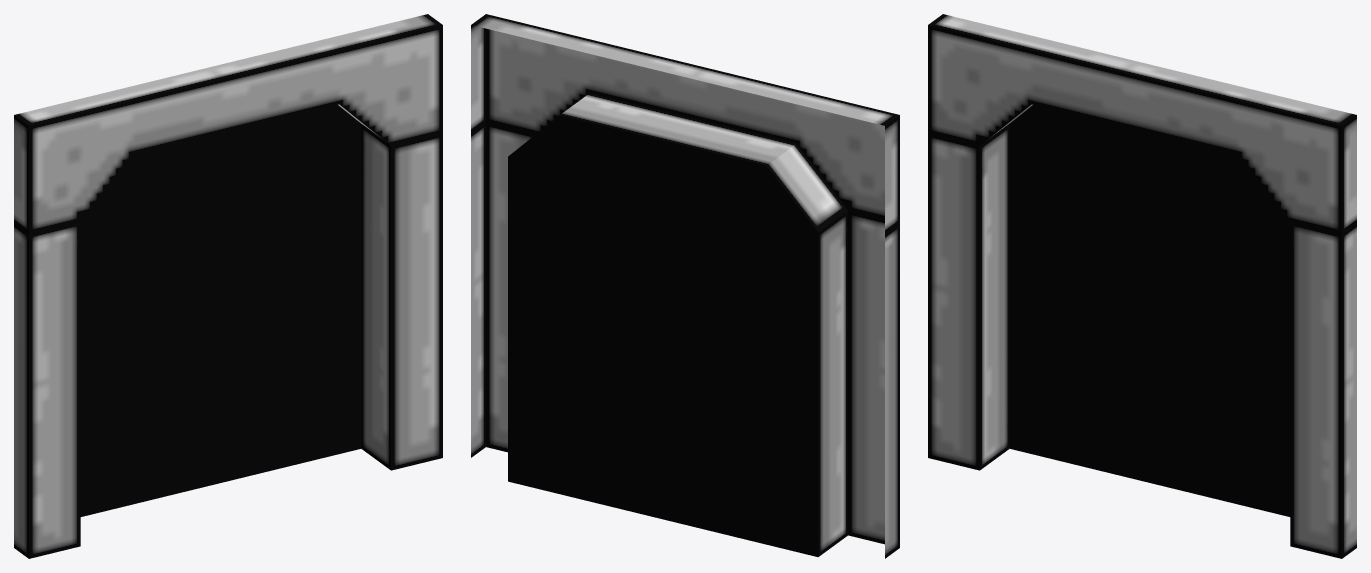
The model's file is door1.glb.
3 views of the same model, side by side, from view 1: azimuth 30°, elevation 25°; view 2: azimuth 150°, elevation 25°; view 3: azimuth 330°, elevation 25° (orthographic).
Parts seen in each view (by area): view 1: arch_door_woodOpen; view 2: arch_door_woodOpen; view 3: arch_door_woodOpen.
Part boxes in pixels (x1,y1,x2,y2): arch_door_woodOpen: (14,14,442,558); arch_door_woodOpen: (471,14,899,558); arch_door_woodOpen: (928,14,1356,558).
Bounding box in the file's own units: 4 × 4 × 0.5.
1 material, 1 textured.
